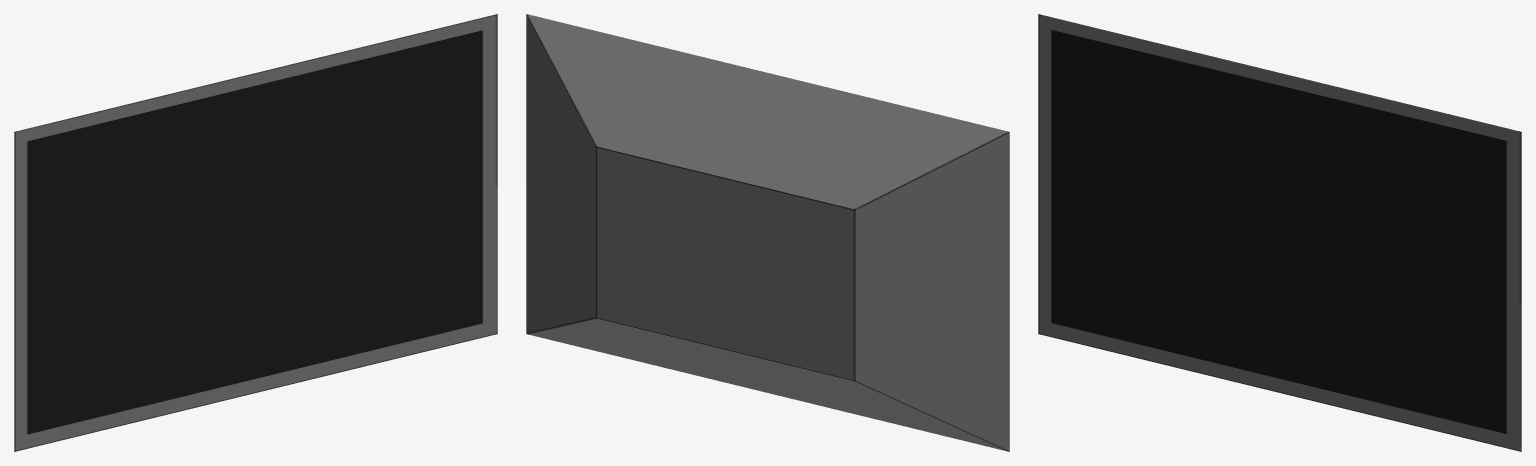
File: Moniot.fbx
3 renders of one model, left to right at view 1: azimuth 30°, elevation 25°; view 2: azimuth 150°, elevation 25°; view 3: azimuth 330°, elevation 25°, orthographic.
Parts seen in each view (by area): view 1: Monitor; view 2: Monitor; view 3: Monitor.
Part boxes in pixels (bbox=[...]): Monitor: bbox=[14, 14, 497, 451]; Monitor: bbox=[526, 14, 1009, 451]; Monitor: bbox=[1038, 14, 1521, 451].
Bounding box in the file's own units: 316 × 200 × 47.92.
Materials: 1 (1 with a texture image).
